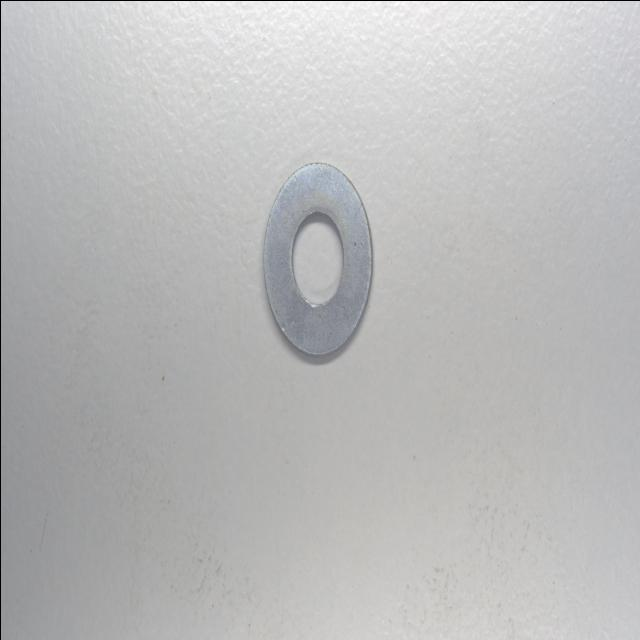washer: (260, 157, 372, 360)
